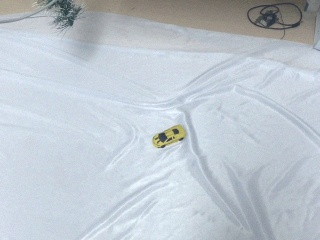toy_car: (150, 124, 187, 149)
